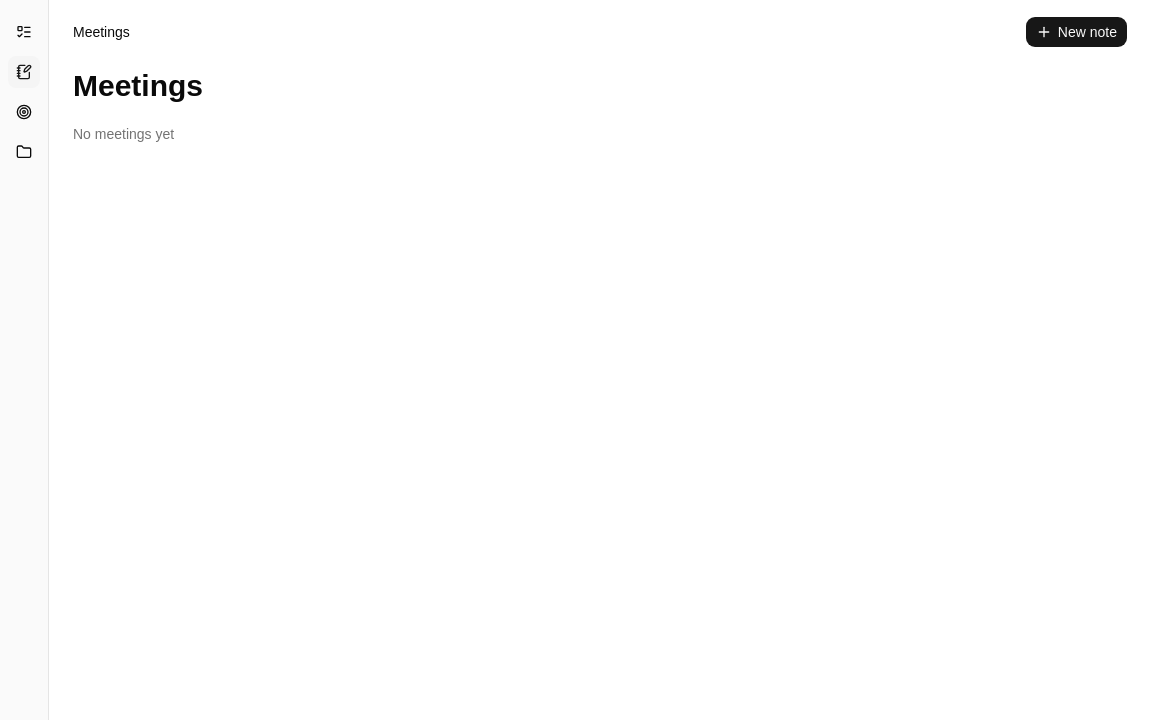
Test case: The tasks of a project › opens the task sheet over the project page, and shows a new title after a save
The image size is (1152, 720).
Click the 4th link named "Projects". click: (24, 152)
box: [8, 136, 40, 168]
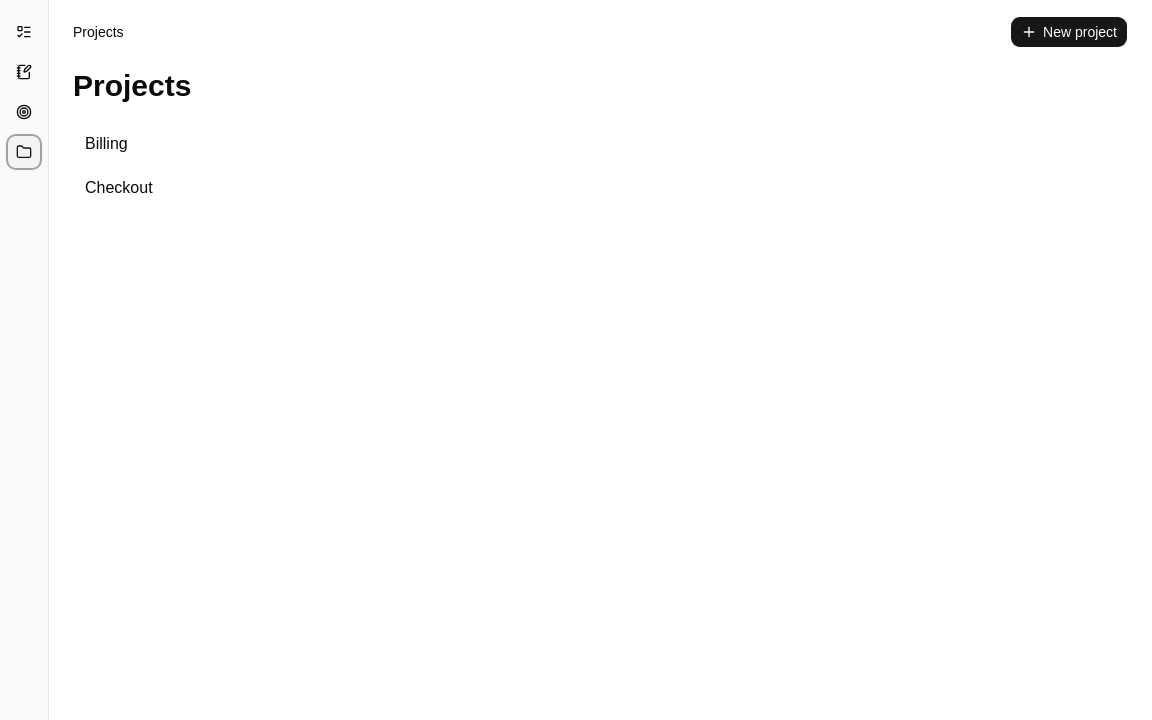
Click the link "Checkout". click: (119, 188)
box: [85, 179, 153, 196]
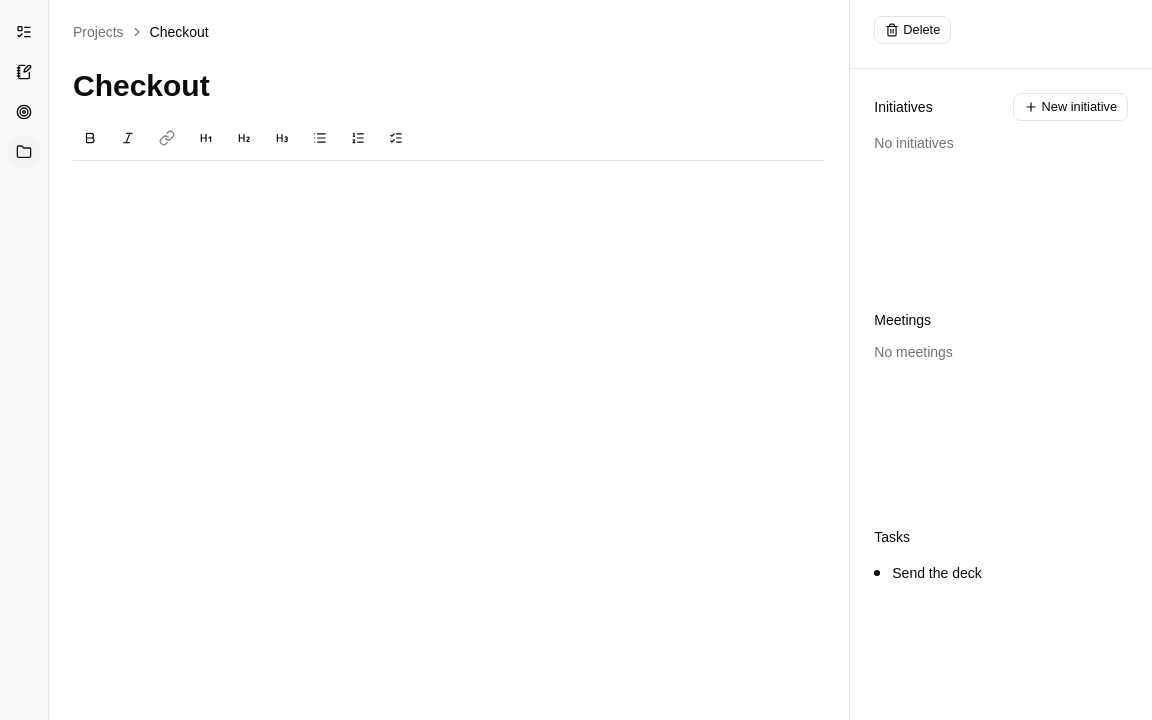
Expected: the field named "Project name" holds "Checkout", [73, 64, 825, 108]
Click the button "Send the deck". click: (1006, 573)
box: [884, 559, 1128, 587]
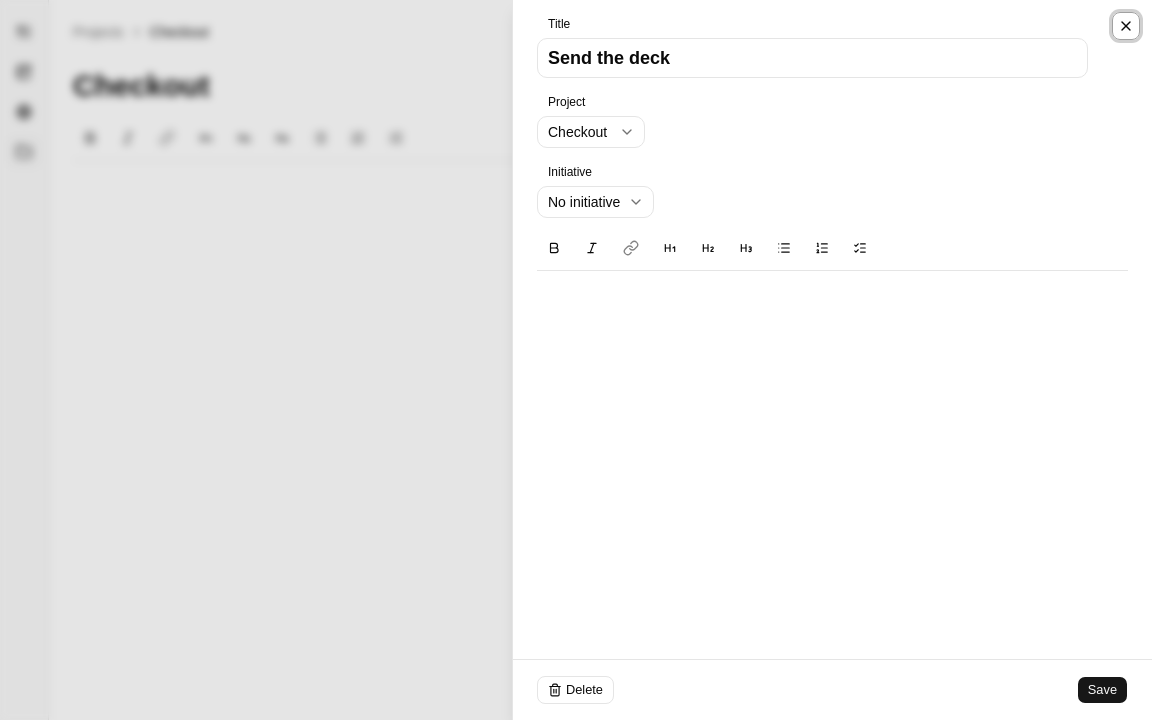
Expected: the field named "Project name" holds "Checkout", [73, 64, 825, 108]
Expected: the field named "Task title" is enabled
Type " today" into the field named "Task title". click: (812, 58)
box: [537, 38, 1088, 78]
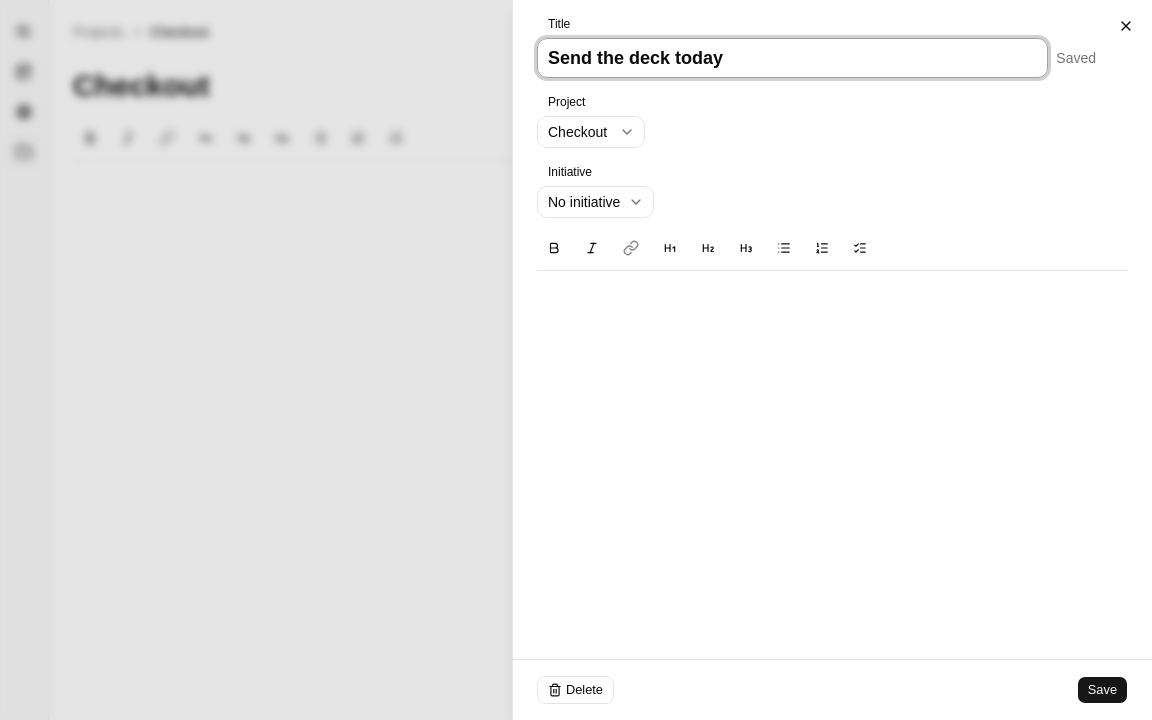
Expected: the text "Saved" is shown, [1056, 48, 1096, 68]
